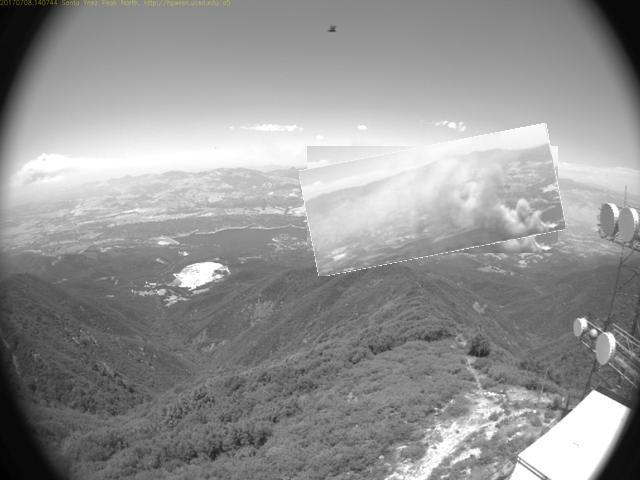smoke: (304, 136, 564, 267)
